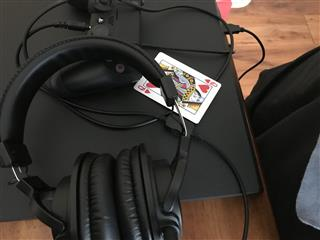QueenOfHearts: (132, 50, 221, 124)
